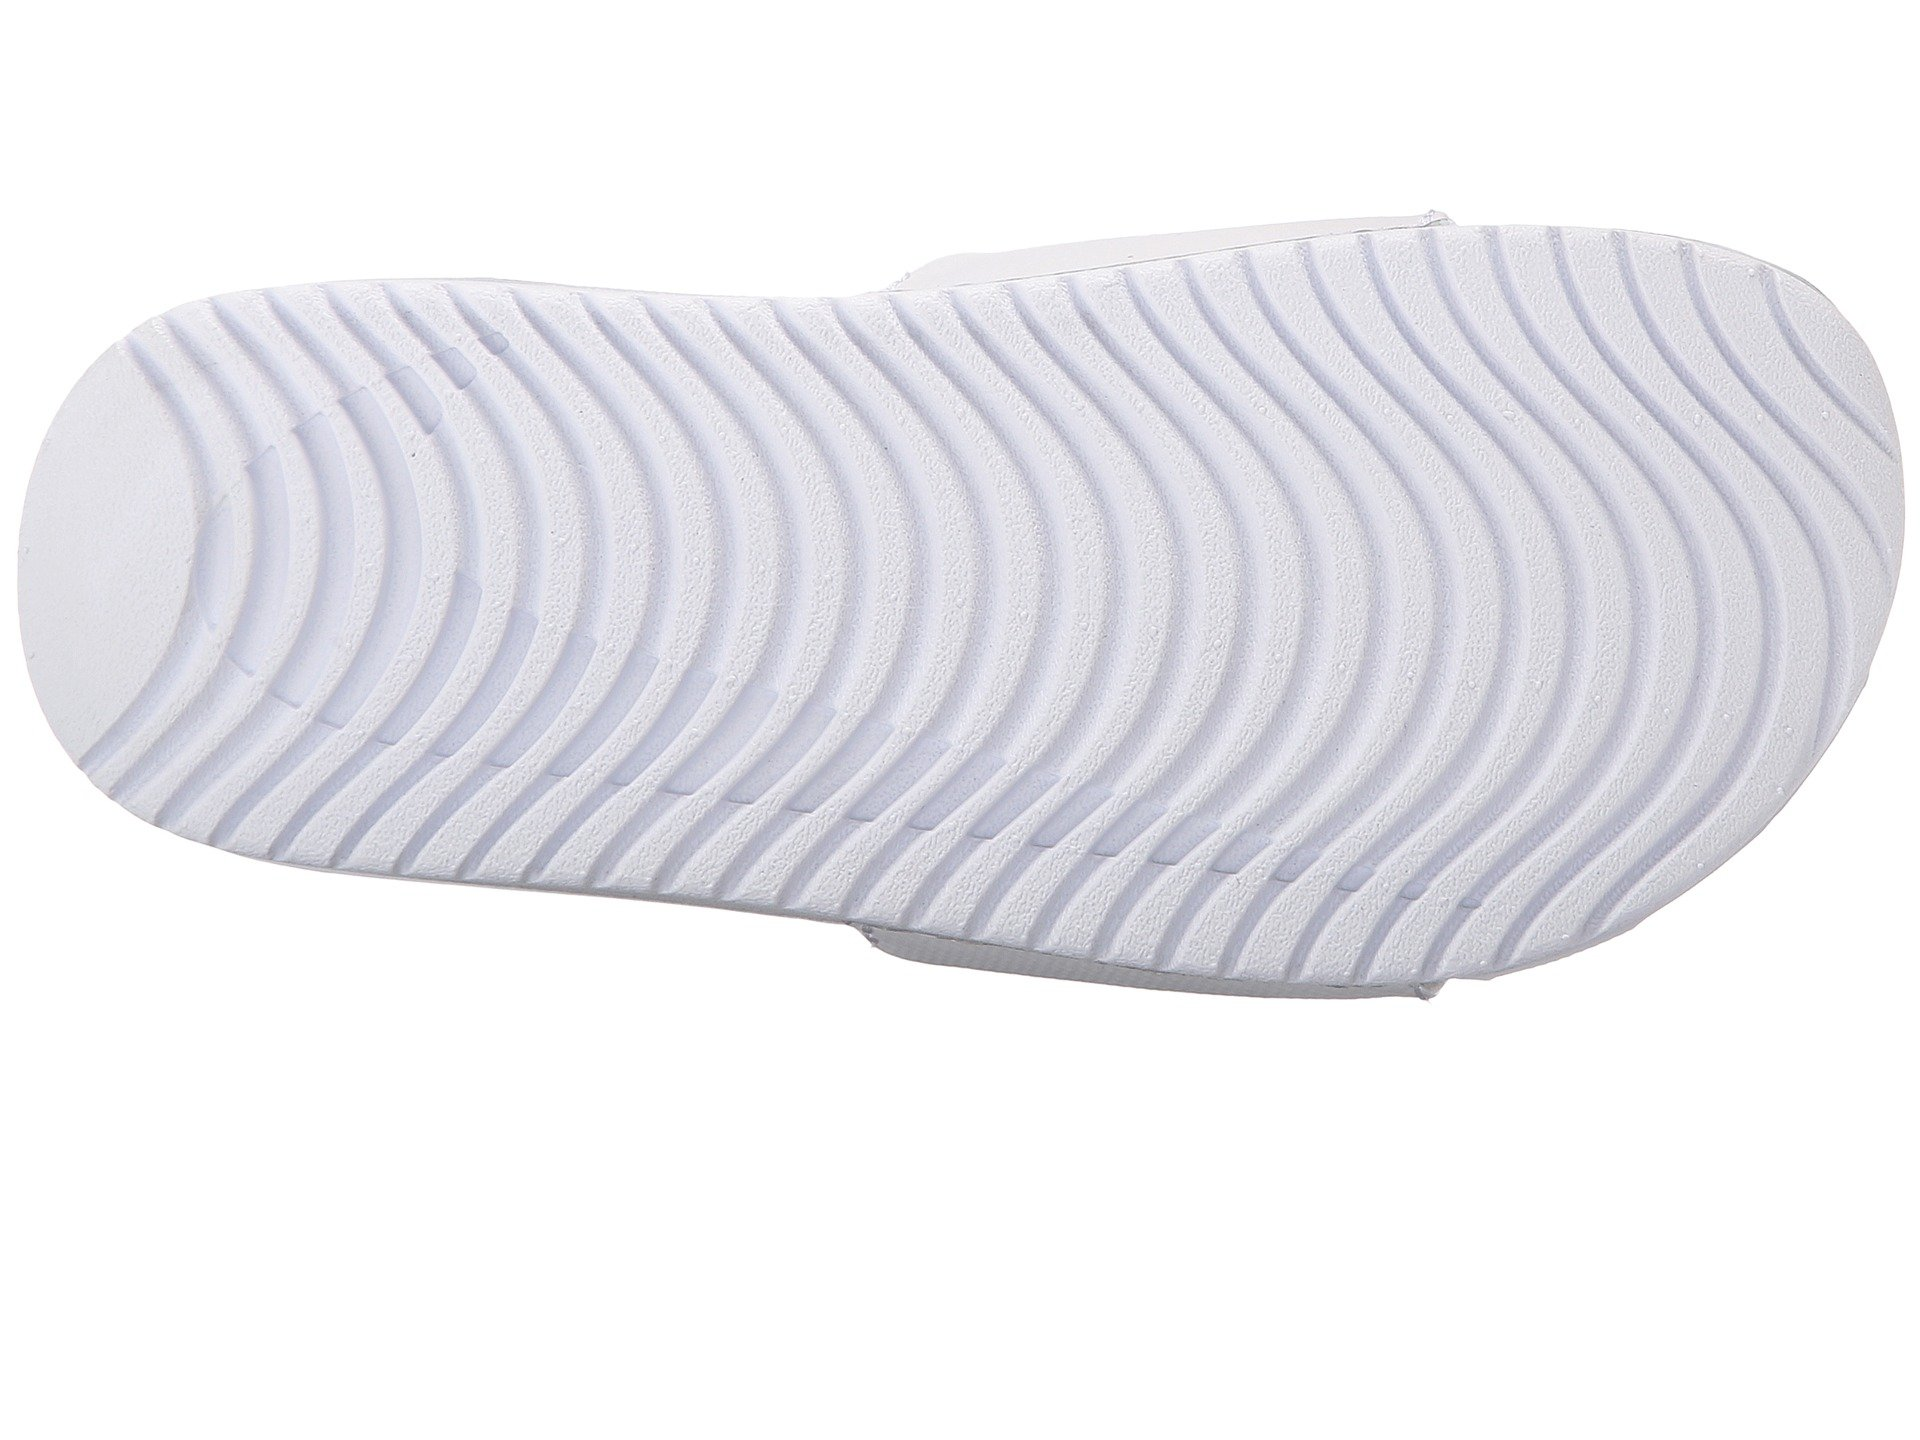line: (1033, 466, 1415, 827), (469, 588, 754, 880), (1533, 278, 1804, 551)
